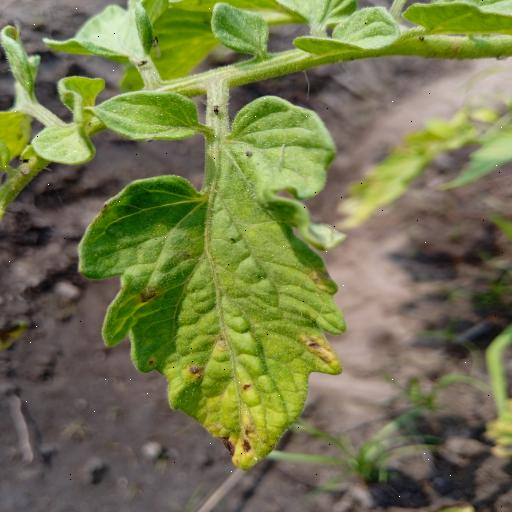Tomato_Brown_Spots: (76, 86, 353, 474)
